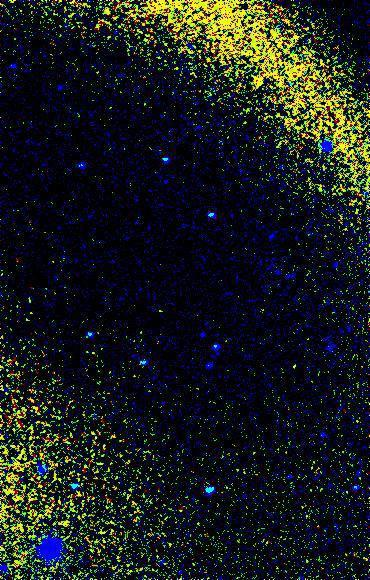star: (246, 63, 276, 93)
